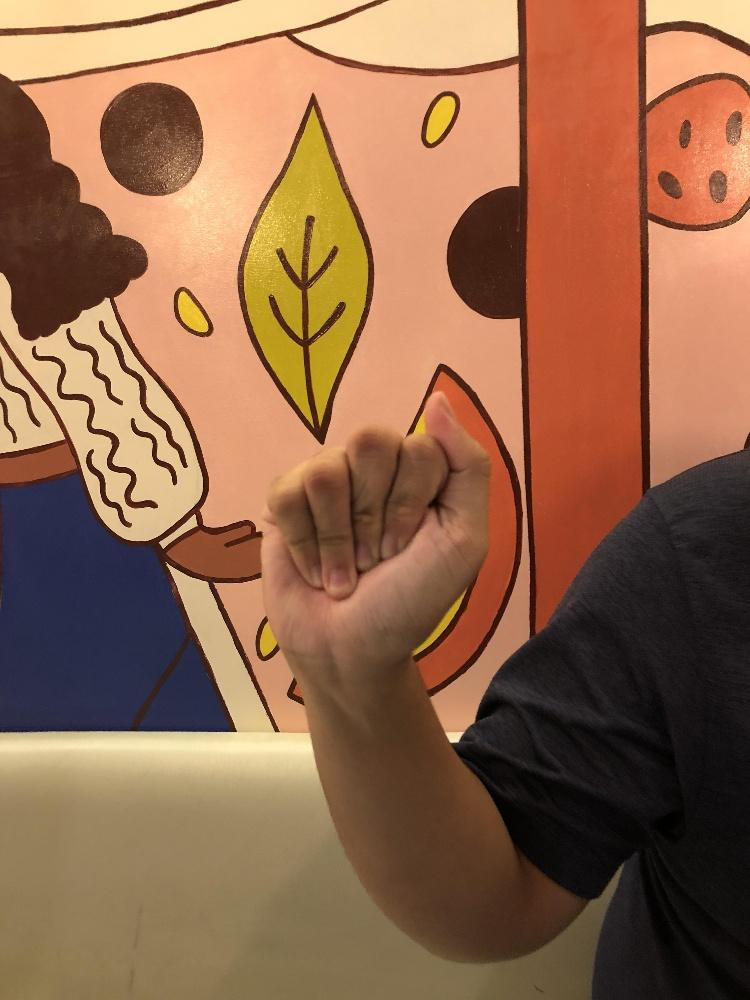a: (257, 391, 494, 668)
